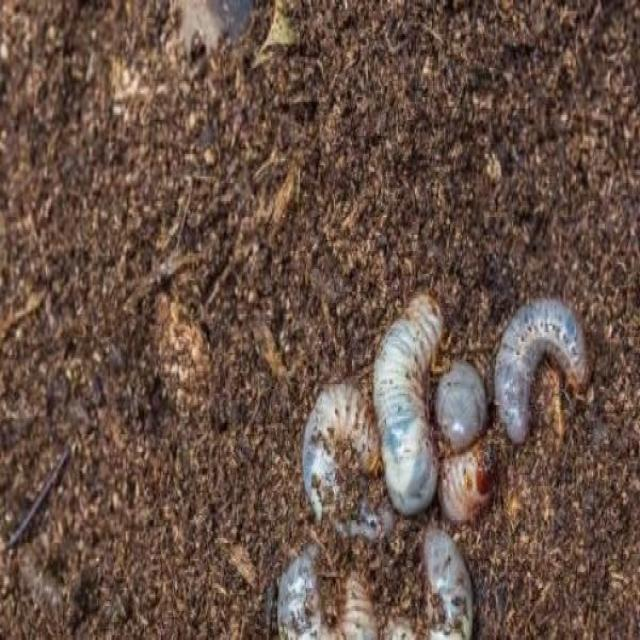grub: (492, 284, 594, 450), (374, 294, 445, 515), (294, 378, 395, 531), (265, 545, 380, 634), (397, 525, 482, 640), (427, 356, 494, 453)
